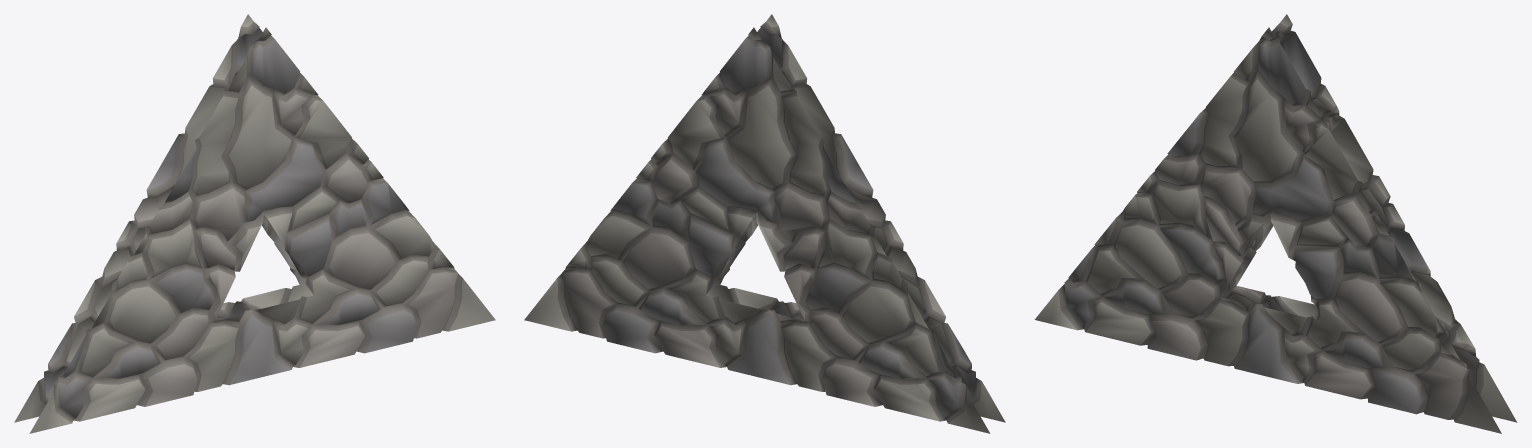
File: rpgpp_ag_roof_end_01_6x5_wall_window_03e.fbx
3 views of the same model, side by side, from view 1: azimuth 30°, elevation 25°; view 2: azimuth 150°, elevation 25°; view 3: azimuth 330°, elevation 25° (orthographic).
Parts seen in each view (by area): view 1: rpgpp_ag_roof_end_01_6x5_wall_window_03e; view 2: rpgpp_ag_roof_end_01_6x5_wall_window_03e; view 3: rpgpp_ag_roof_end_01_6x5_wall_window_03e.
Part boxes in pixels (box(x1,y1,x2,y2)): rpgpp_ag_roof_end_01_6x5_wall_window_03e: box(14, 14, 495, 433); rpgpp_ag_roof_end_01_6x5_wall_window_03e: box(524, 14, 1005, 433); rpgpp_ag_roof_end_01_6x5_wall_window_03e: box(1034, 14, 1517, 433).
Size of the model in its own units: 6.38 by 4.58 by 0.4229.
